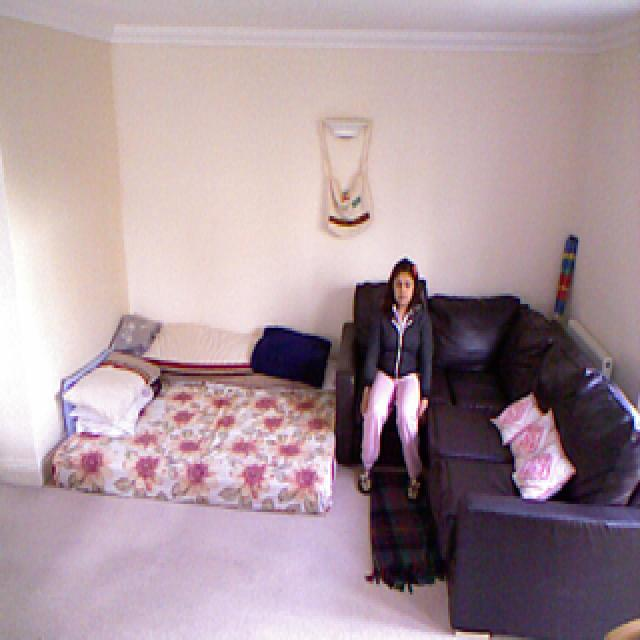sitting: (358, 263, 434, 497)
